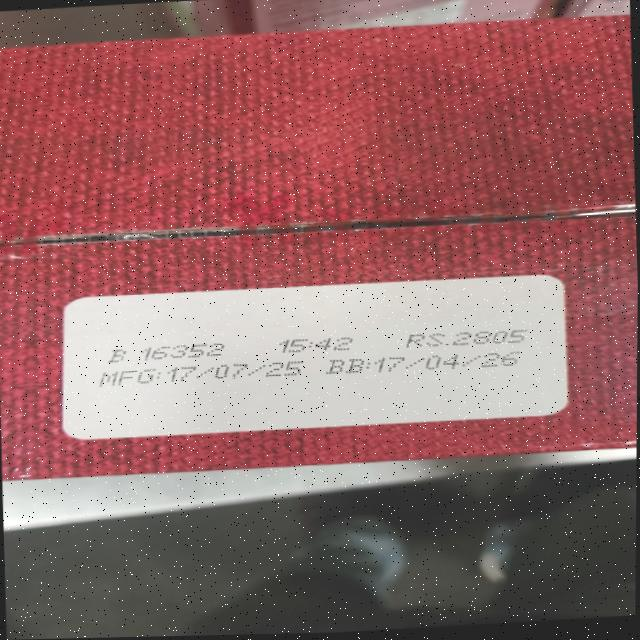BB: (328, 348, 521, 377)
Batch: (106, 342, 226, 363)
MFG: (100, 359, 304, 388)
RS: (407, 327, 531, 348)
TimeStamp: (275, 335, 355, 353)
